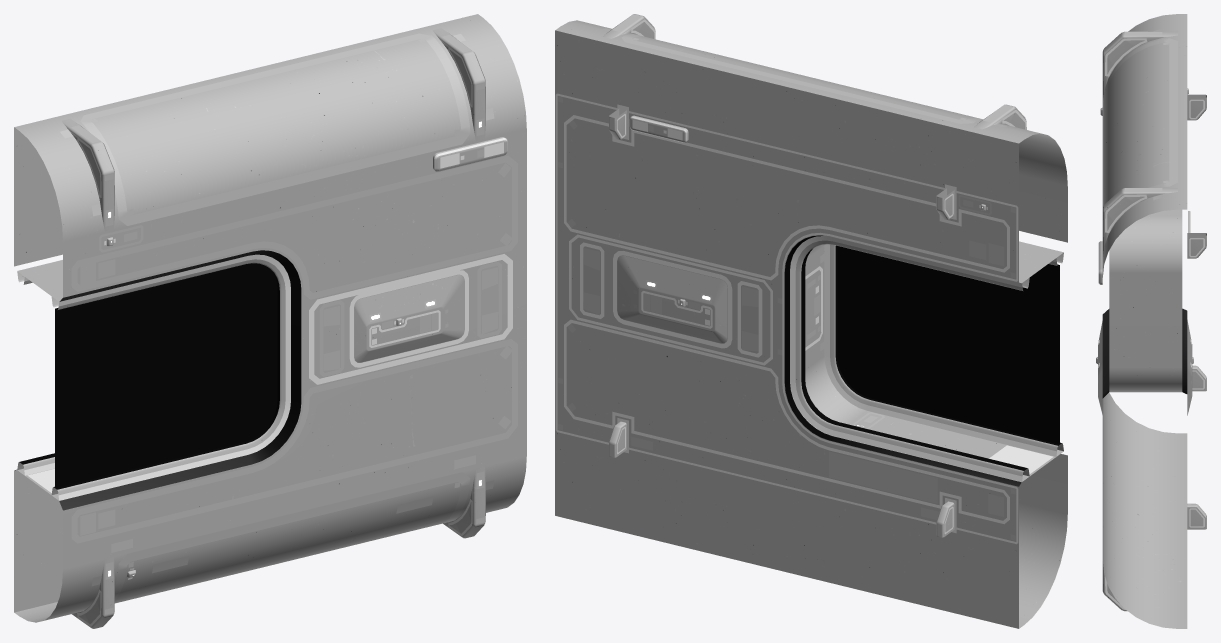
Rendered from SM_Modular_WallWindow_3_Merged.fbx.
The picture shows the model from 3 angles, left to right: view 1: azimuth 30°, elevation 25°; view 2: azimuth 150°, elevation 25°; view 3: azimuth 270°, elevation 25°; orthographic projection. The views are drawn at different scales.
Visible parts, largest first — view 1: SM_Modular_WallWindow_3_Merged_LOD0; view 2: SM_Modular_WallWindow_3_Merged_LOD0; view 3: SM_Modular_WallWindow_3_Merged_LOD0.
Part boxes in pixels (x1=…): SM_Modular_WallWindow_3_Merged_LOD0: x1=14, y1=14, x2=526, y2=628; SM_Modular_WallWindow_3_Merged_LOD0: x1=555, y1=14, x2=1067, y2=628; SM_Modular_WallWindow_3_Merged_LOD0: x1=1096, y1=14, x2=1206, y2=628.
Size of the model in its own units: 500 by 120 by 500.
